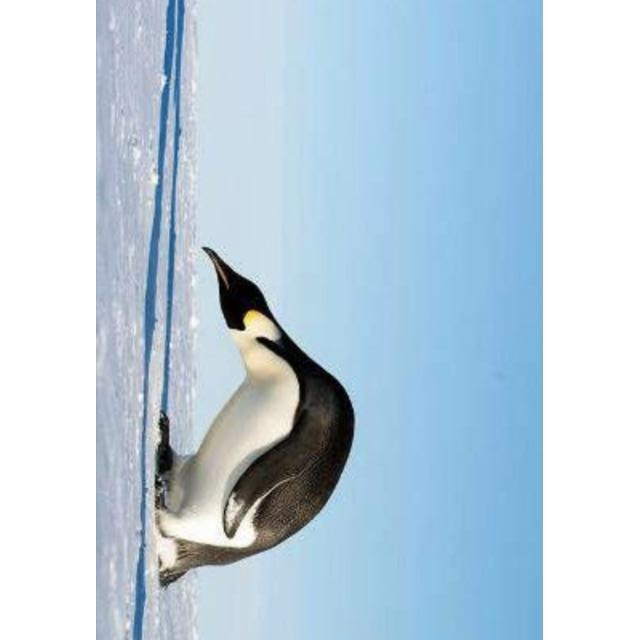penguin: (153, 246, 355, 590)
